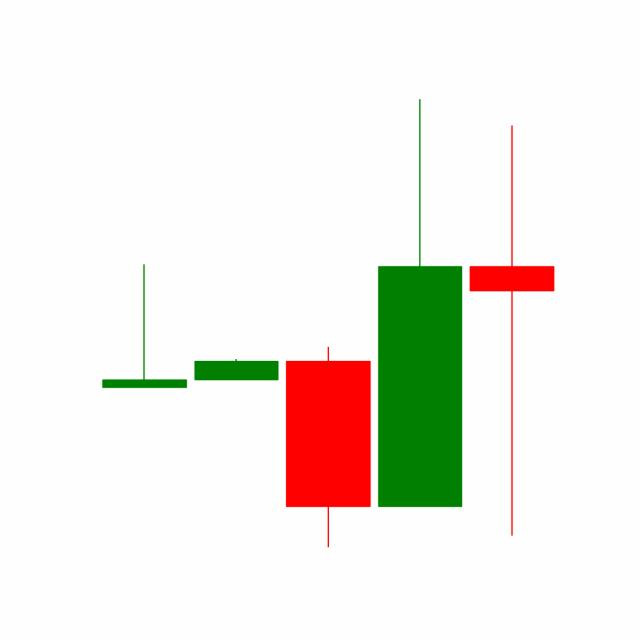Spinning Top: (464, 120, 558, 540)
